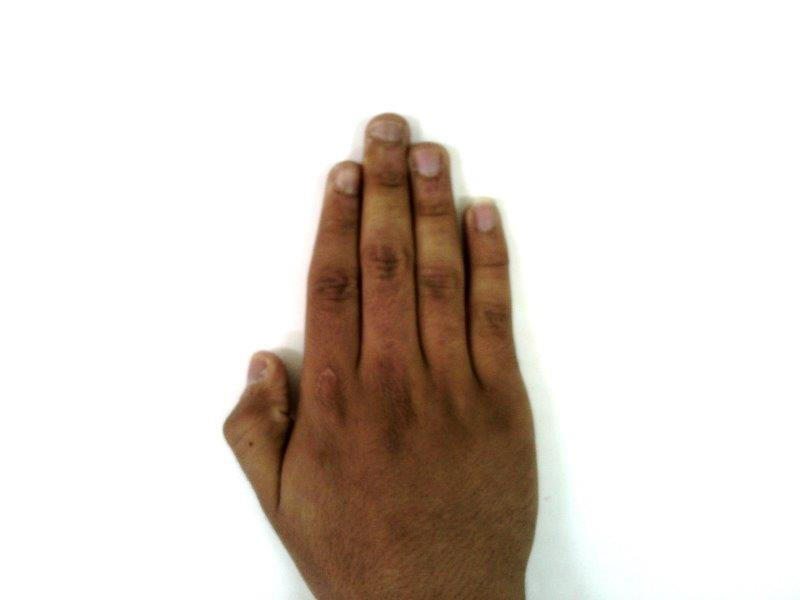hand: (224, 113, 539, 595)
